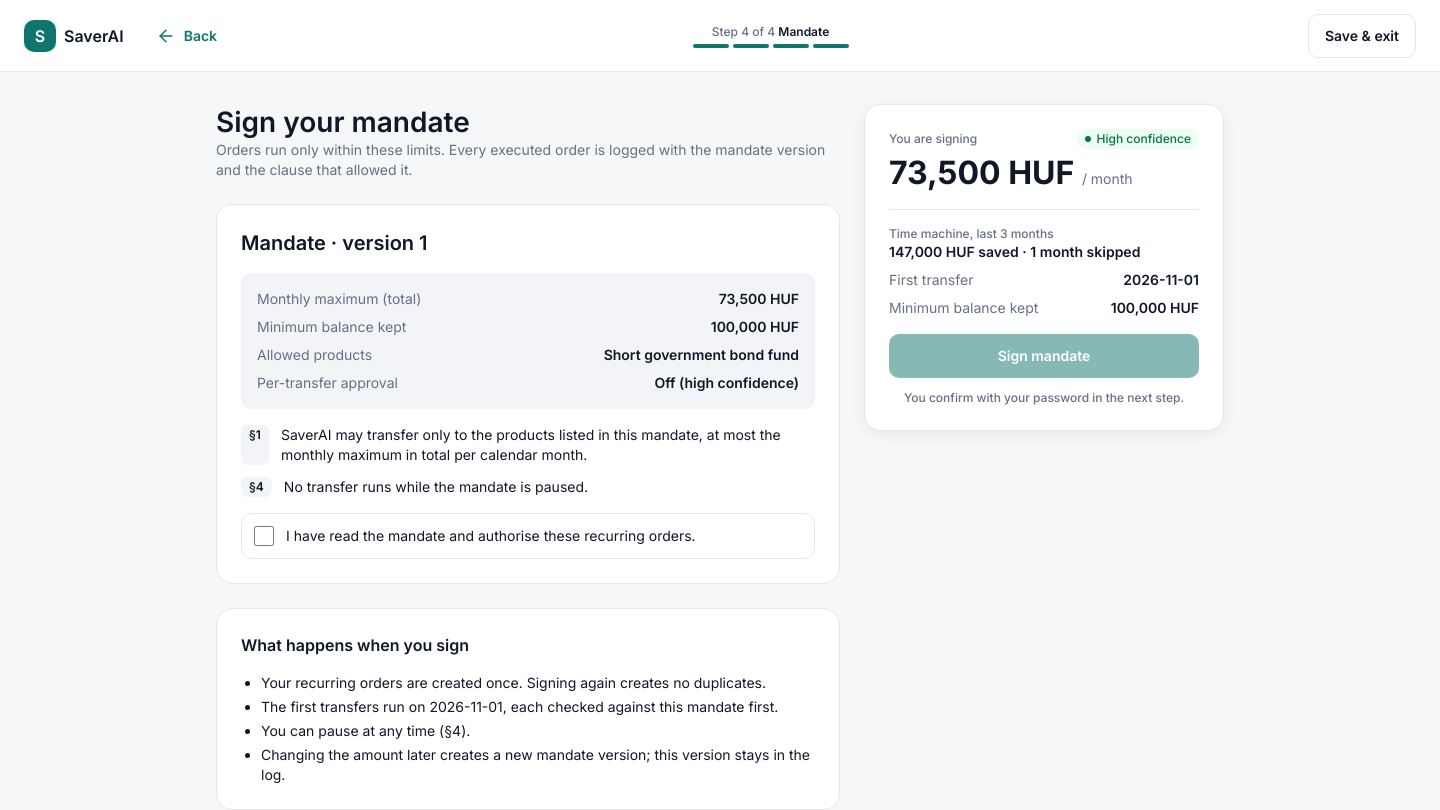
Test case: a wrong password keeps the modal open and shows the message
Expected: the button "Sign mandate" is disabled, top-left (889, 334), bottom-right (1199, 378)
Click the checkbox labelled "I have read the mandate and authorise these recurring orders." at x=264, y=536, box top-left (254, 526), bottom-right (274, 546)
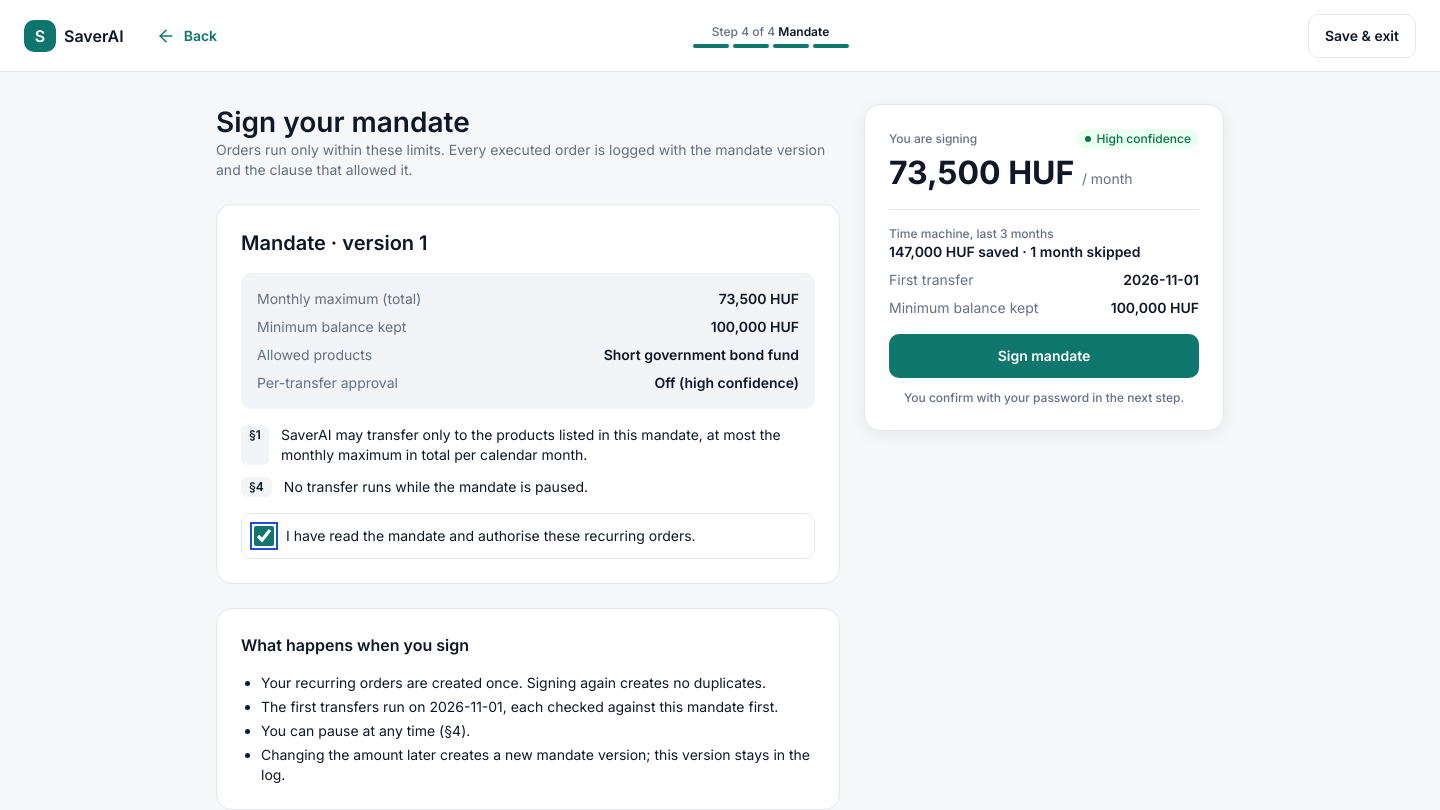
Click the button "Sign mandate" at x=1044, y=356, box top-left (889, 334), bottom-right (1199, 378)
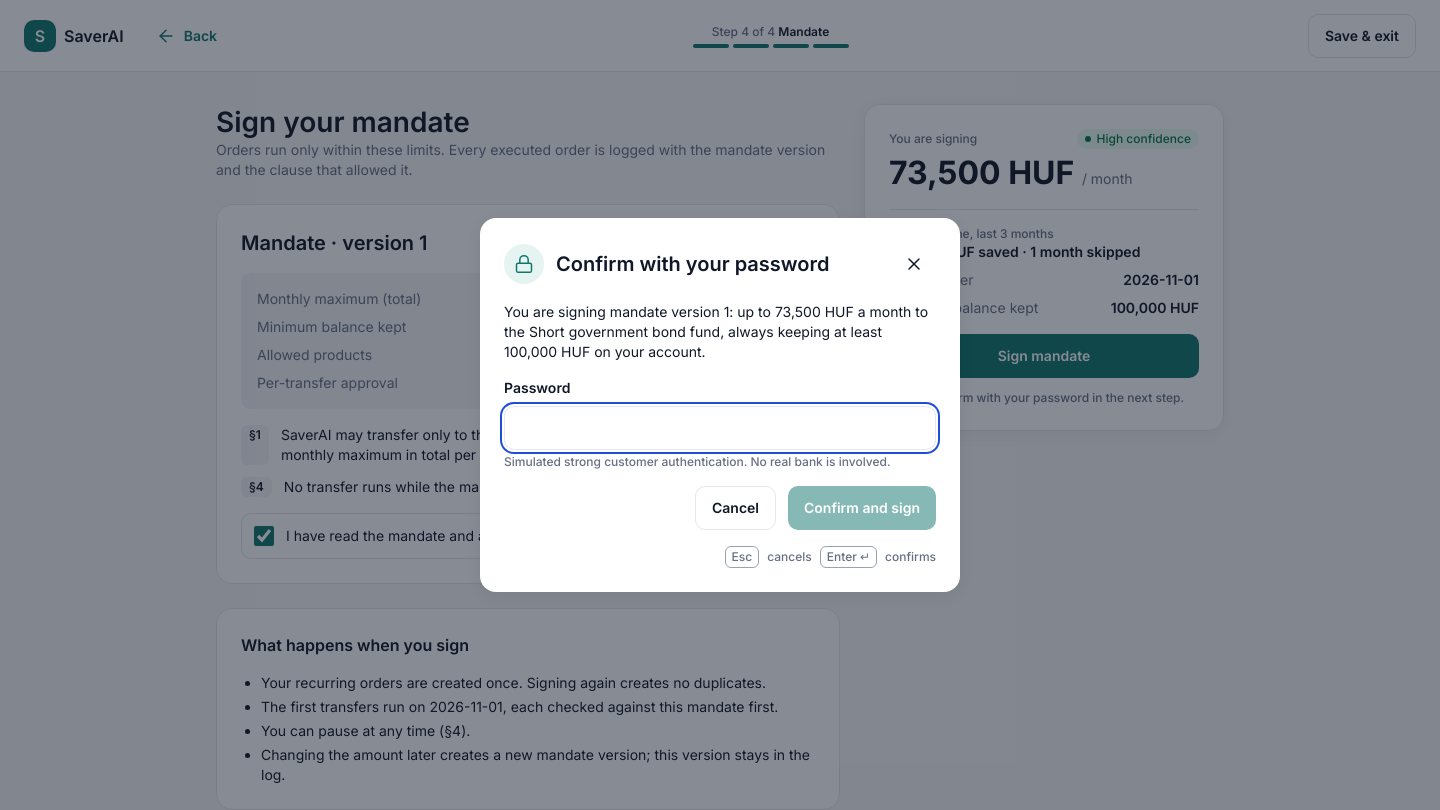
Type "wrong" into the password field labelled "Password" at x=720, y=428, box top-left (504, 406), bottom-right (936, 450)
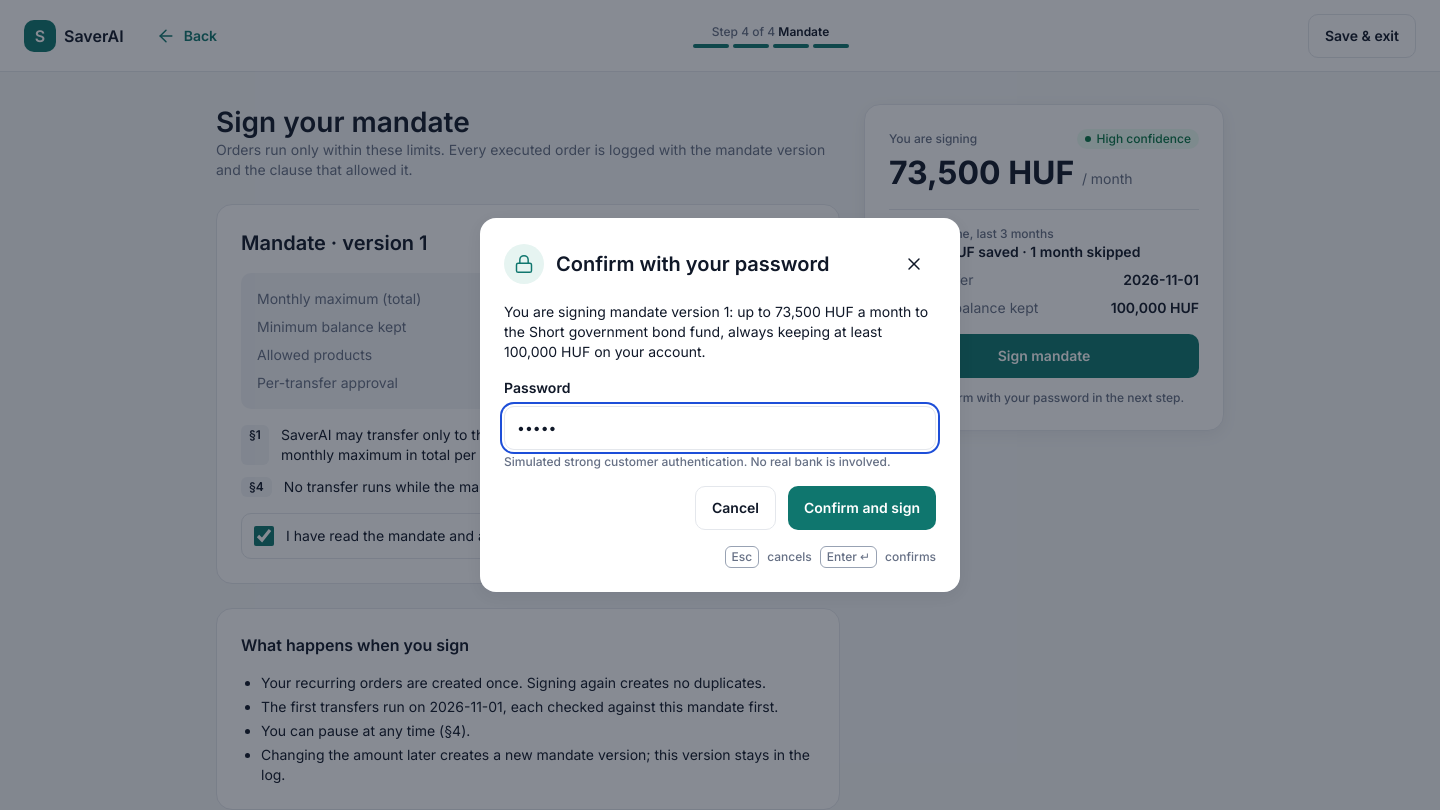
Press Enter
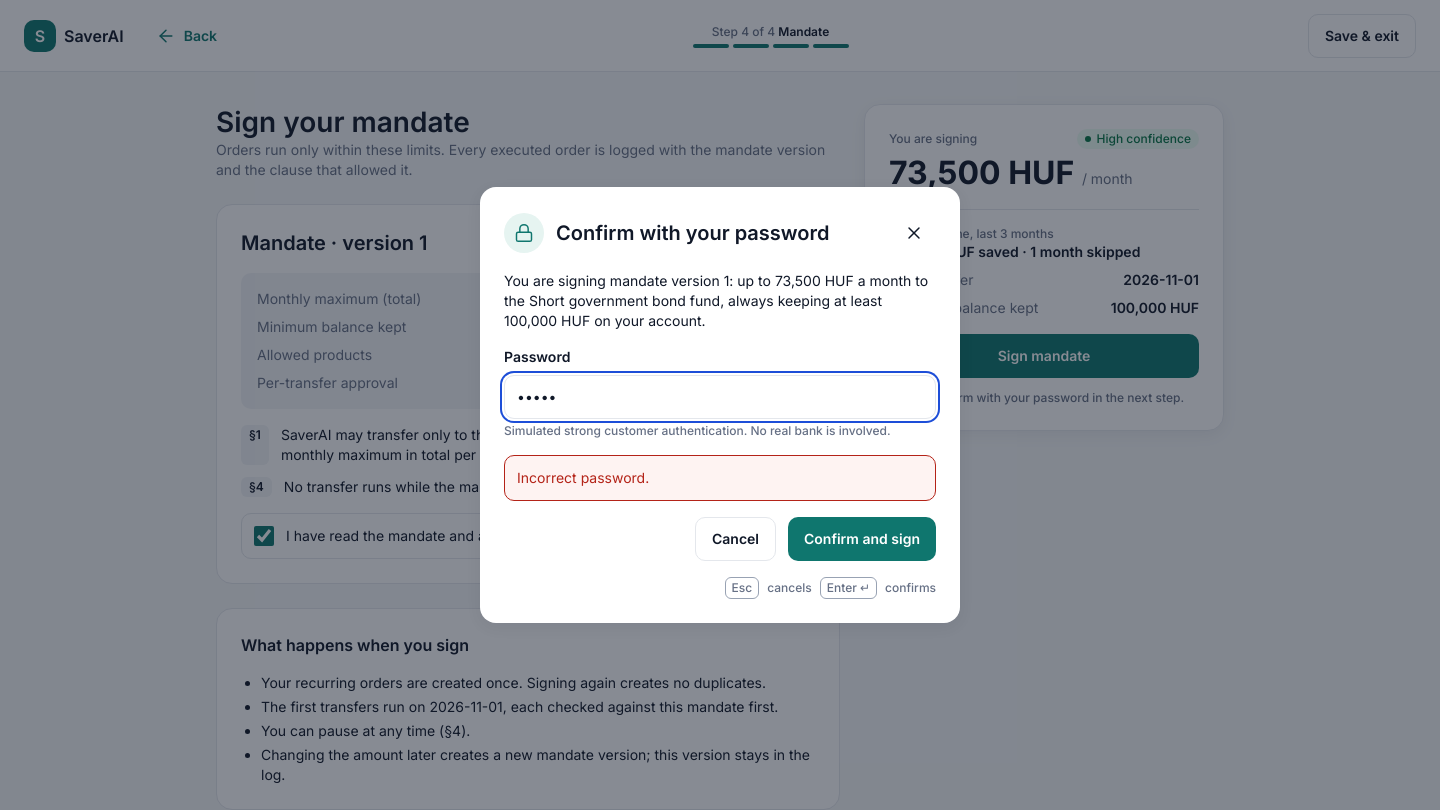
Result: the dialog "Confirm with your password" is shown at top-left (480, 187), bottom-right (960, 623)
Result: the message reads "Incorrect password." at top-left (517, 469), bottom-right (649, 486)
